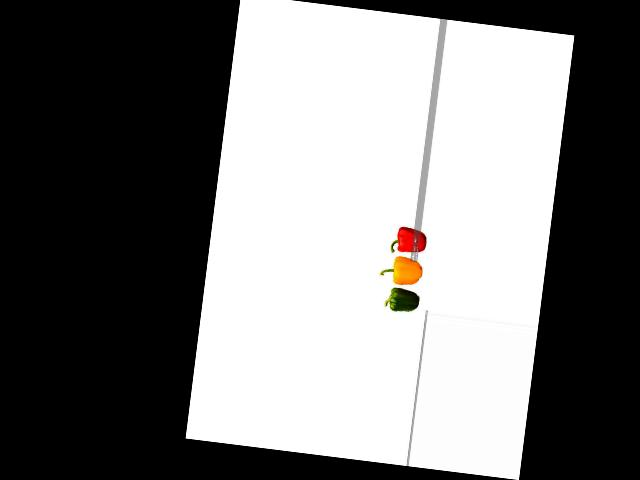bell_pepper: (379, 286, 422, 317)
